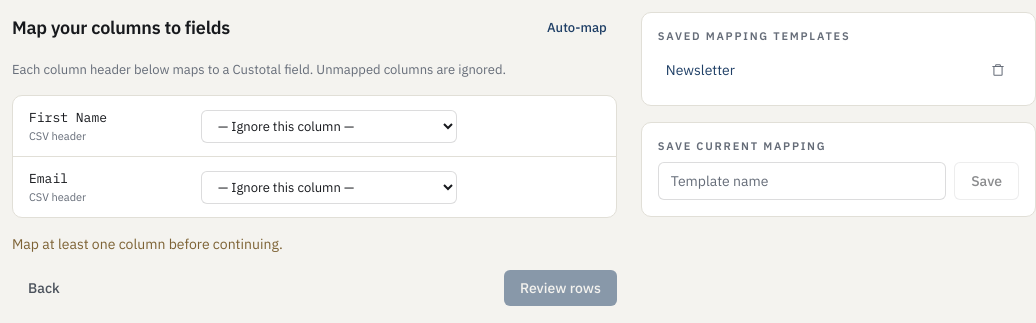
Test: MapColumnsStep › deletes a template from the list after confirmation-less delete click
The width and height of the screenshot is (1036, 323).
Expected: the button "Newsletter" is shown, top-left (666, 60), bottom-right (735, 80)
What coordinates should you click on to do the following:
click the button named "Delete template Newsletter"
I would click on:
 (998, 70)
Its box is top-left (985, 57), bottom-right (1011, 83).
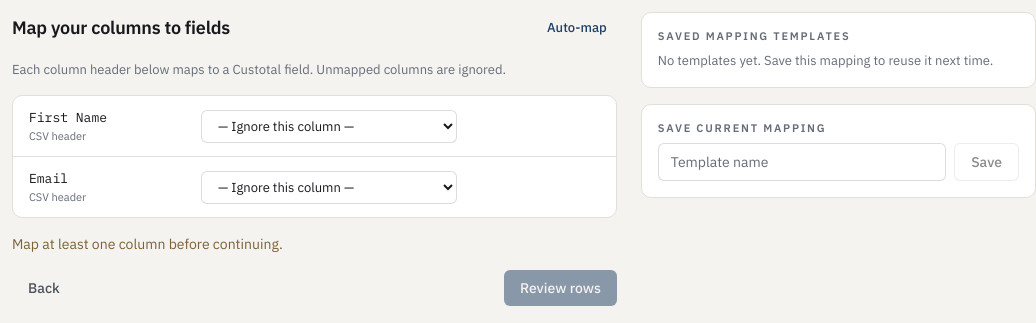
Now the button "Newsletter" is gone
